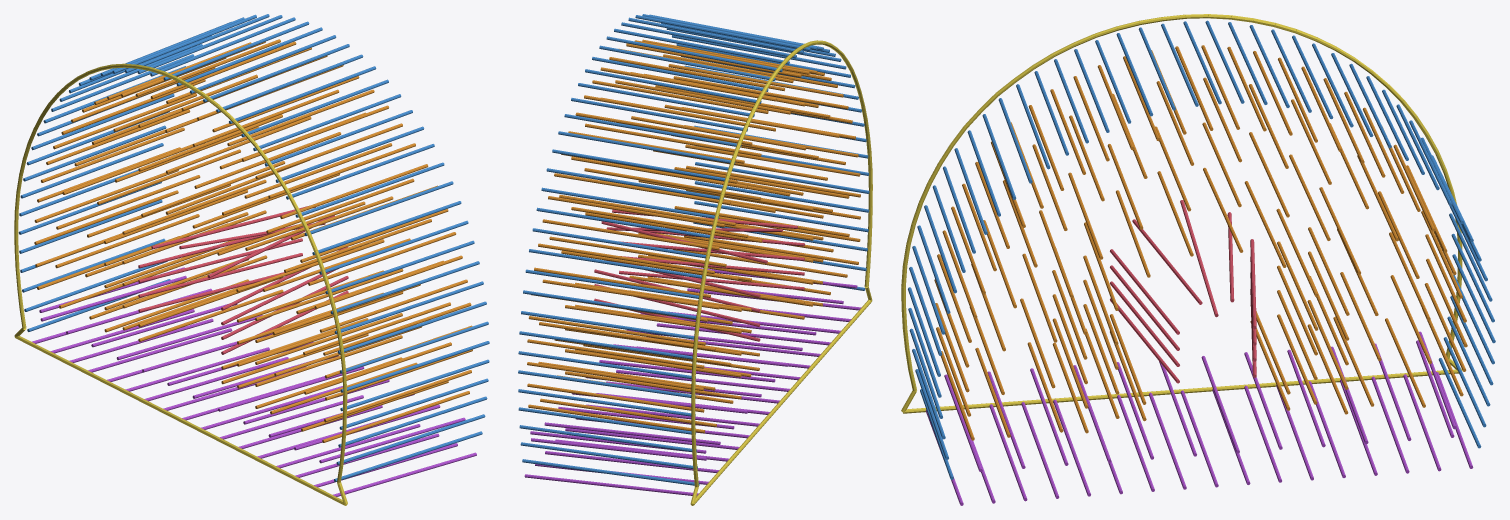
File: blast_effect.glb
3 views of the same model, side by side, from view 1: azimuth 30°, elevation 25°; view 2: azimuth 150°, elevation 25°; view 3: azimuth 270°, elevation 25° (orthographic). The views are drawn at different scales.
Visible parts, largest first — view 1: holes; view 2: holes; view 3: holes.
Part boxes in pixels (bbox=[...]): holes: bbox=[14, 14, 489, 505]; holes: bbox=[518, 14, 872, 505]; holes: bbox=[901, 14, 1495, 505].
Bounding box in the file's own units: 6.58 × 9.33 × 13.03.
